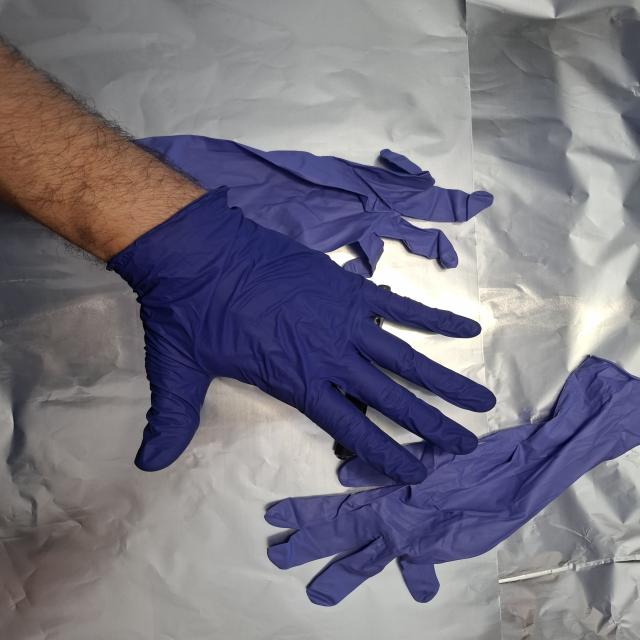glove_on: (111, 187, 502, 489)
